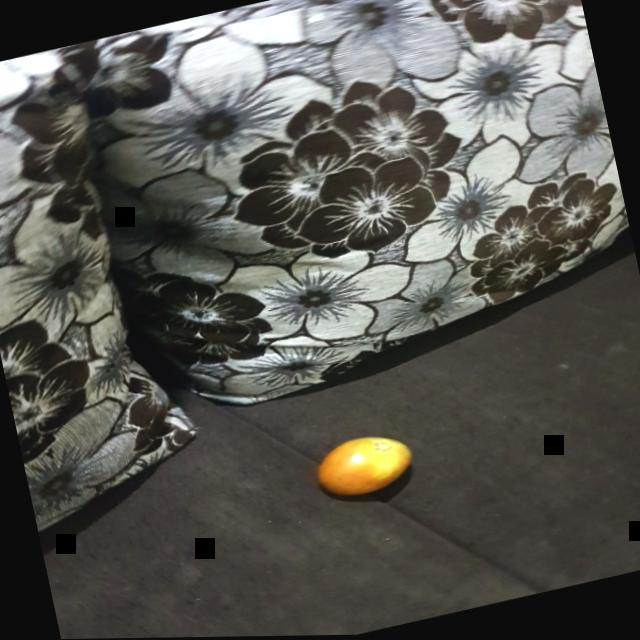tomato: (304, 423, 422, 506)
